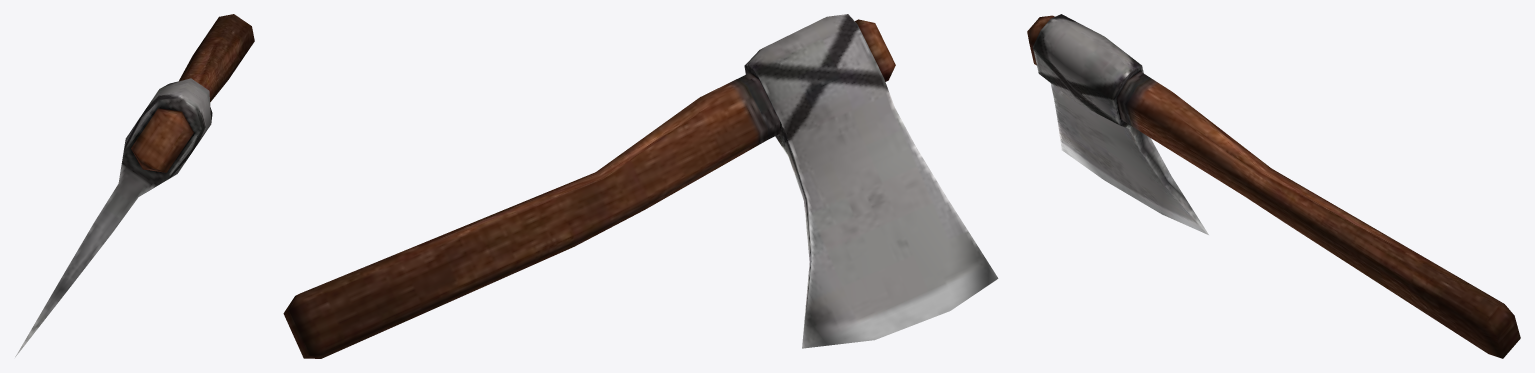
Rendered from rider-weapon-slice-base.glb.
3 views of the same model, side by side, from view 1: azimuth 30°, elevation 25°; view 2: azimuth 150°, elevation 25°; view 3: azimuth 270°, elevation 25° (orthographic). The views are drawn at different scales.
Size of the model in its own units: 0.6562 by 0.3445 by 0.6548.
1 material, 1 textured.
